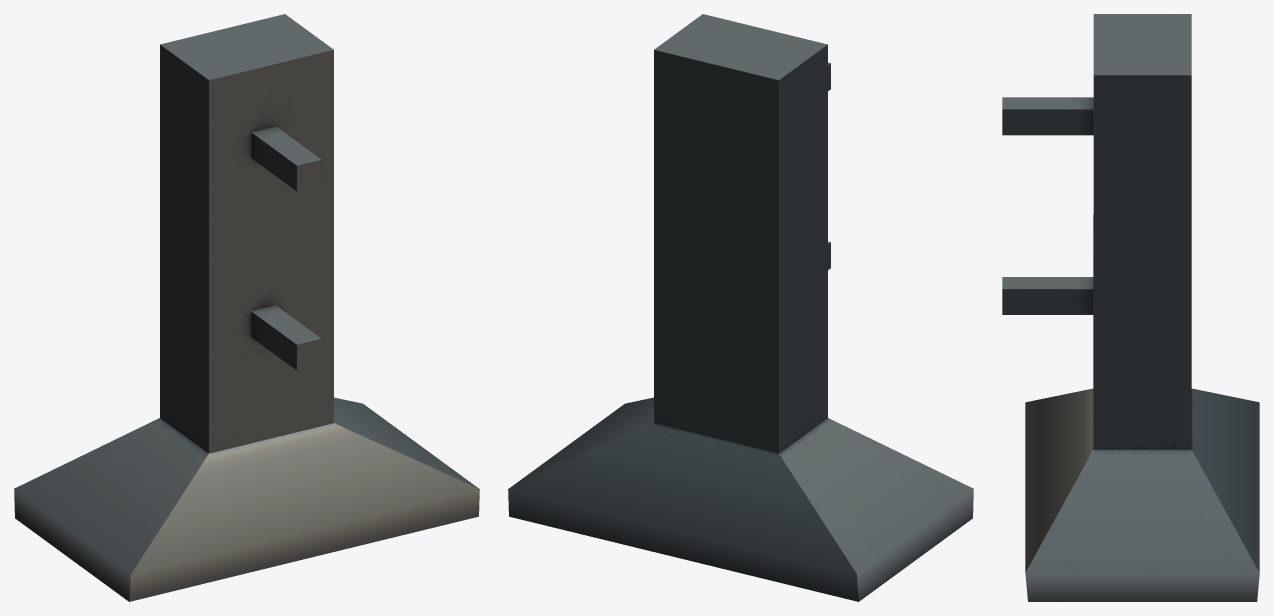
File: Vent.fbx
The picture shows the model from 3 angles, left to right: view 1: azimuth 30°, elevation 25°; view 2: azimuth 150°, elevation 25°; view 3: azimuth 270°, elevation 25°; orthographic projection.
Visible parts, largest first — view 1: pCube53; view 2: pCube53; view 3: pCube53.
Boxes of the visible parts, <box> form: pCube53: <box>14,14,479,601</box>; pCube53: <box>508,14,973,601</box>; pCube53: <box>1002,14,1259,601</box>.
Bounding box in the file's own units: 27.31 × 35.09 × 17.37.
1 material, 1 textured.
